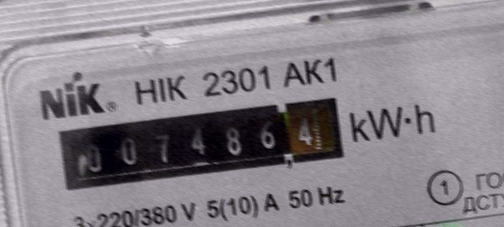0: (81, 140, 105, 176), (117, 133, 139, 168)
4: (185, 122, 208, 159), (293, 114, 314, 150)
6: (257, 118, 279, 152)
7: (149, 130, 176, 165)
8: (223, 123, 244, 160)
screen: (48, 84, 354, 204)
